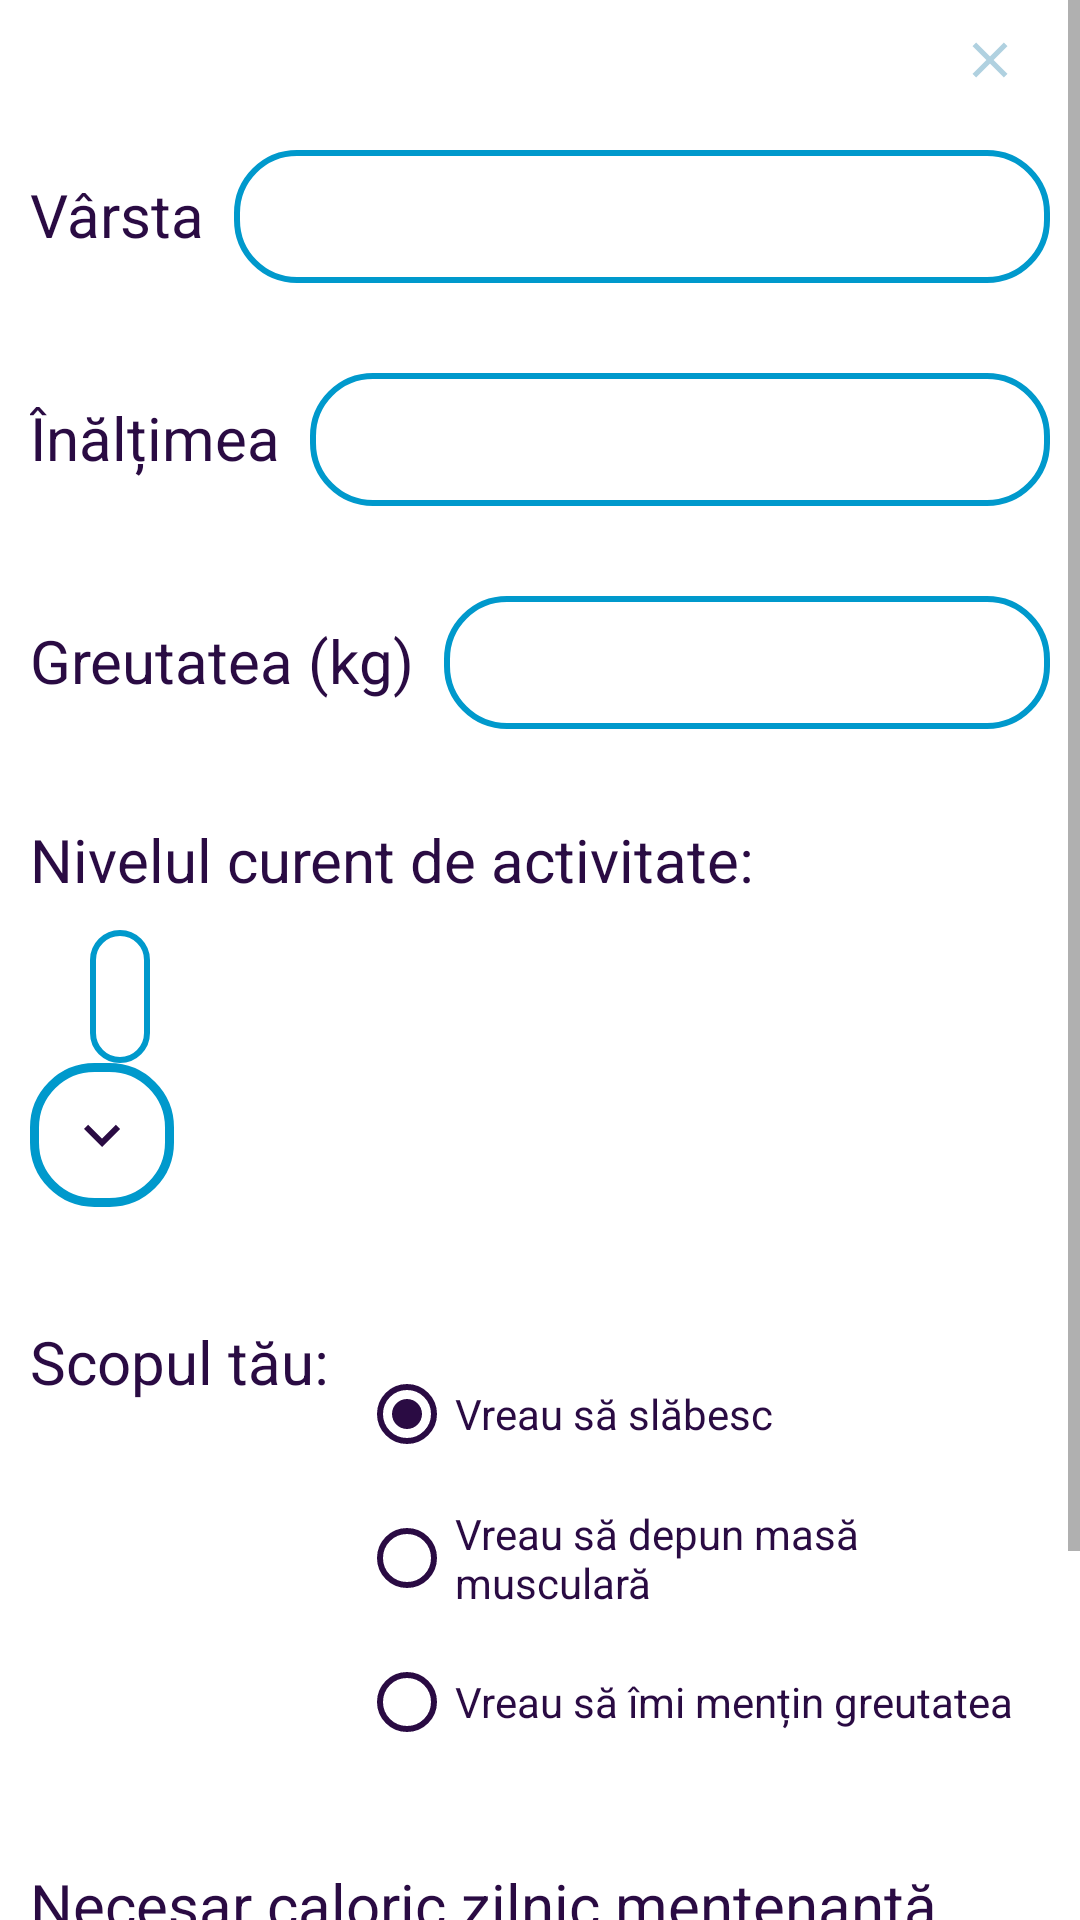

Where icons sit on this 1080px×1920px app screen, as [x1, y1, x2, y2]:
close: [973, 43, 1007, 77]
